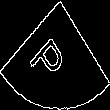P_NE: (32, 25, 78, 85)
